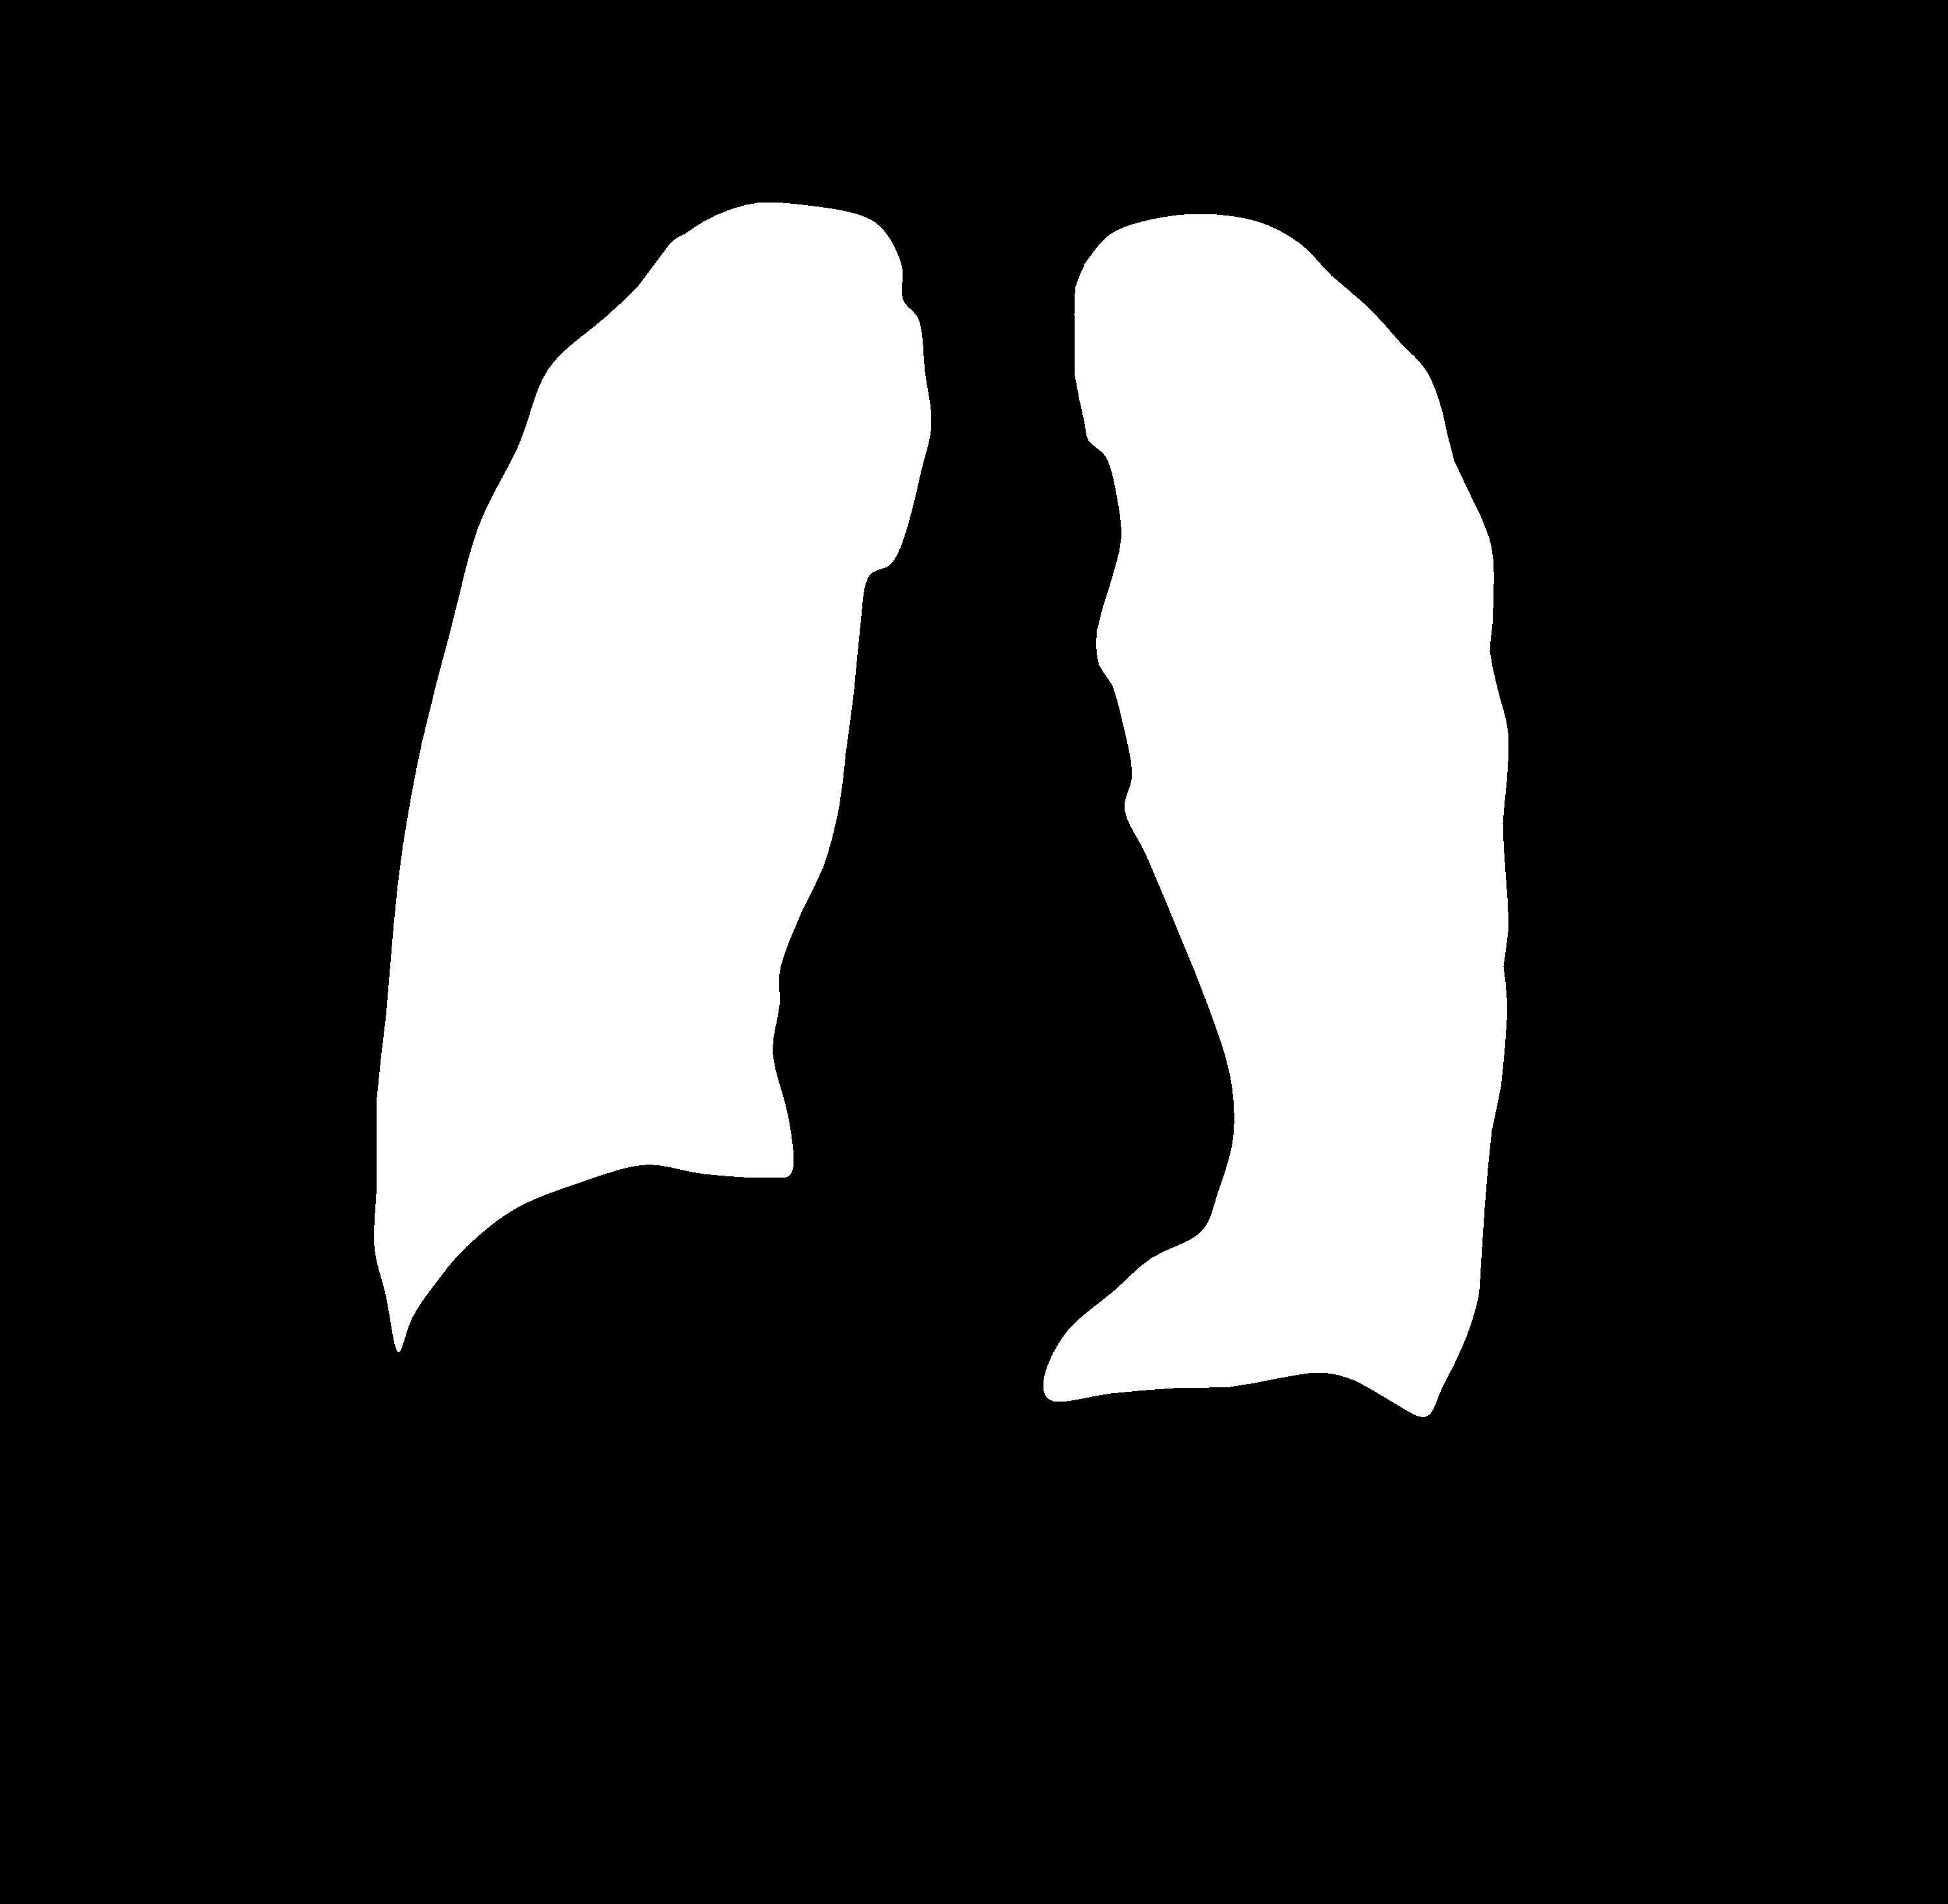heart: (771, 851, 1228, 1254)
left_lung: (373, 202, 931, 1351)
right_lung: (1043, 214, 1509, 1418)
